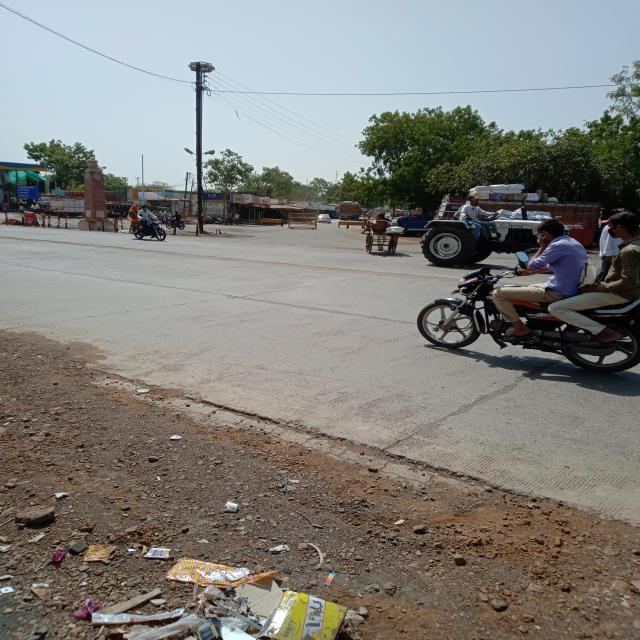Bike: (412, 272, 640, 379)
